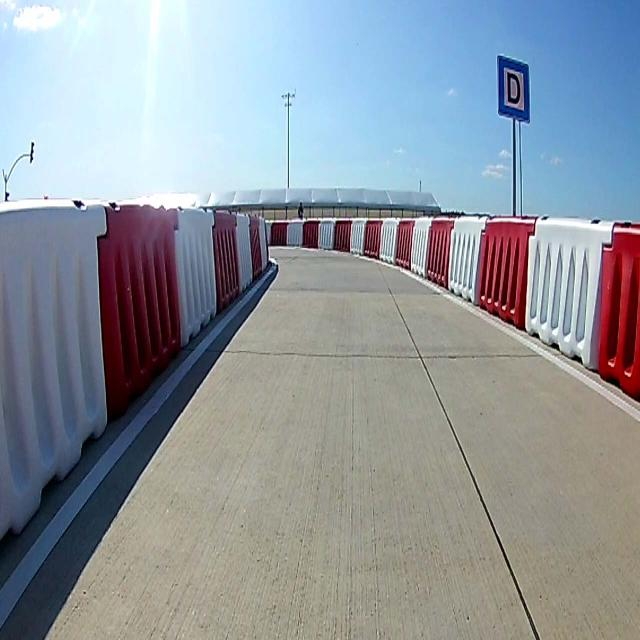durak: (497, 55, 531, 125)
